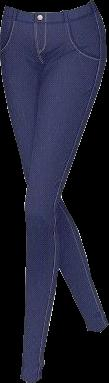Hemline: (85, 321, 108, 332), (19, 374, 43, 382)
Pantleg: (0, 6, 108, 332), (20, 2, 105, 381)
Waistline: (1, 6, 98, 27), (4, 0, 93, 14)
